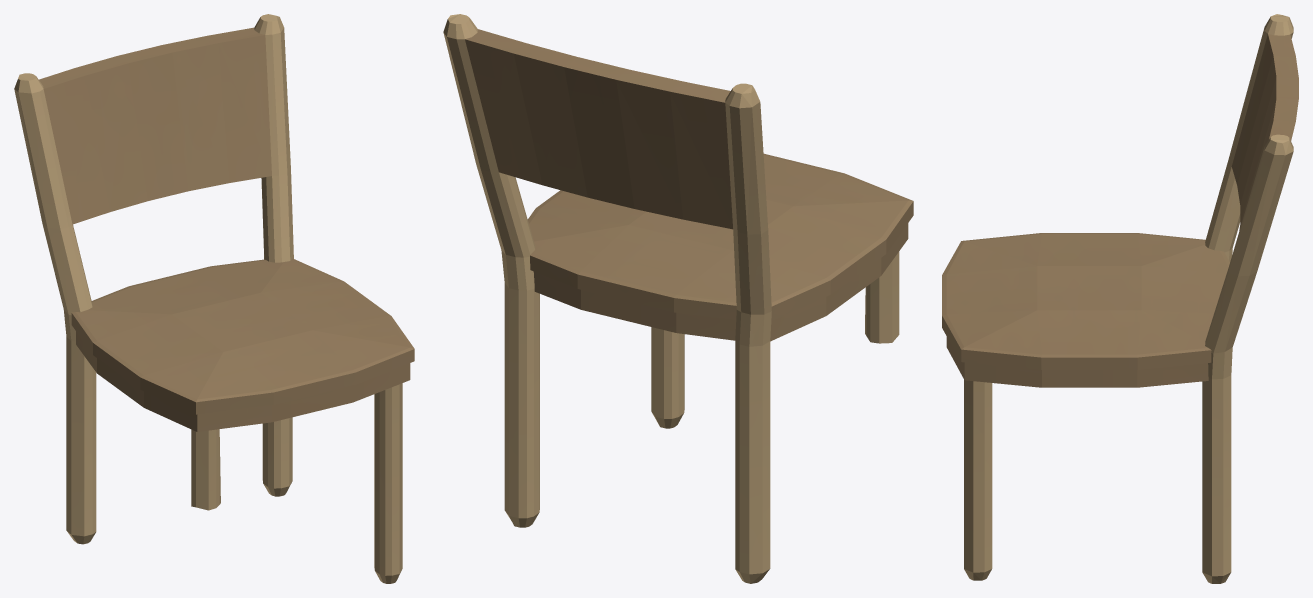
Rendered from chair_1_destroyed_1.dae.
3 renders of one model, left to right at view 1: azimuth 30°, elevation 25°; view 2: azimuth 150°, elevation 25°; view 3: azimuth 270°, elevation 25°, orthographic. The views are drawn at different scales.
Visible parts, largest first — view 1: chair_1_destroyed_1; view 2: chair_1_destroyed_1; view 3: chair_1_destroyed_1.
Part boxes in pixels (x1,y1,x2,y2): chair_1_destroyed_1: (14, 14, 414, 583); chair_1_destroyed_1: (443, 14, 913, 583); chair_1_destroyed_1: (942, 14, 1298, 583).
Size of the model in its own units: 0.4699 by 0.5374 by 0.7549.
